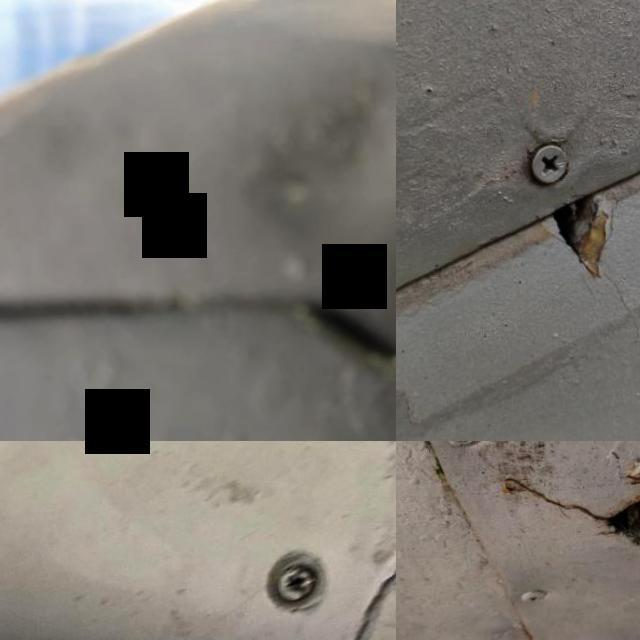Crack: (483, 441, 640, 594), (515, 181, 640, 312)
Dent: (213, 56, 396, 274)
